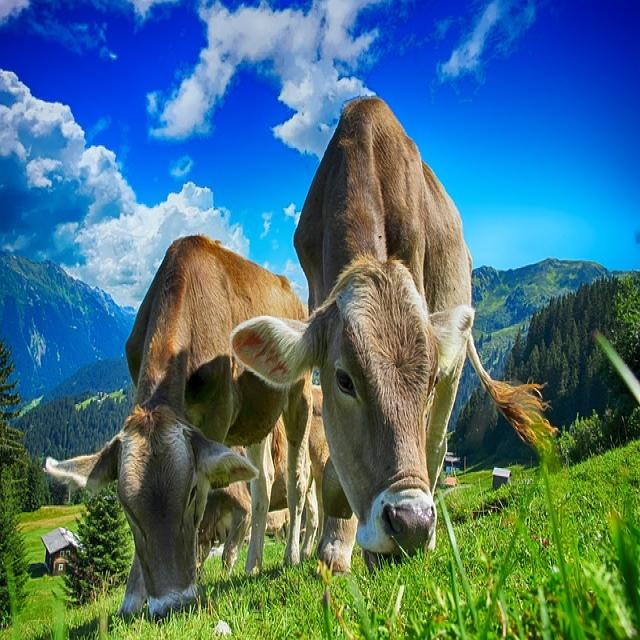Herbivorous: (232, 96, 489, 573), (47, 236, 315, 623)
